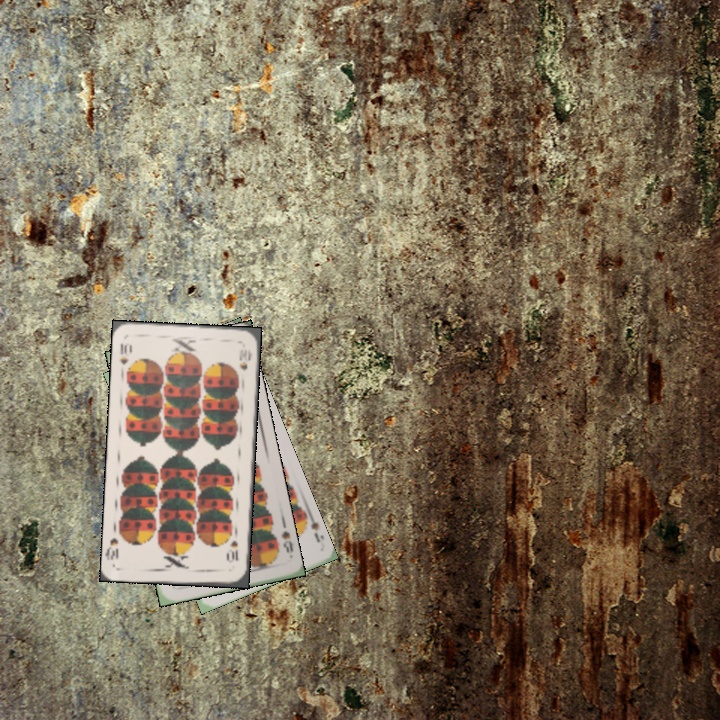S10: (116, 339, 134, 367), (225, 536, 241, 565)
S8: (277, 527, 295, 556)
S9: (297, 508, 323, 545)
